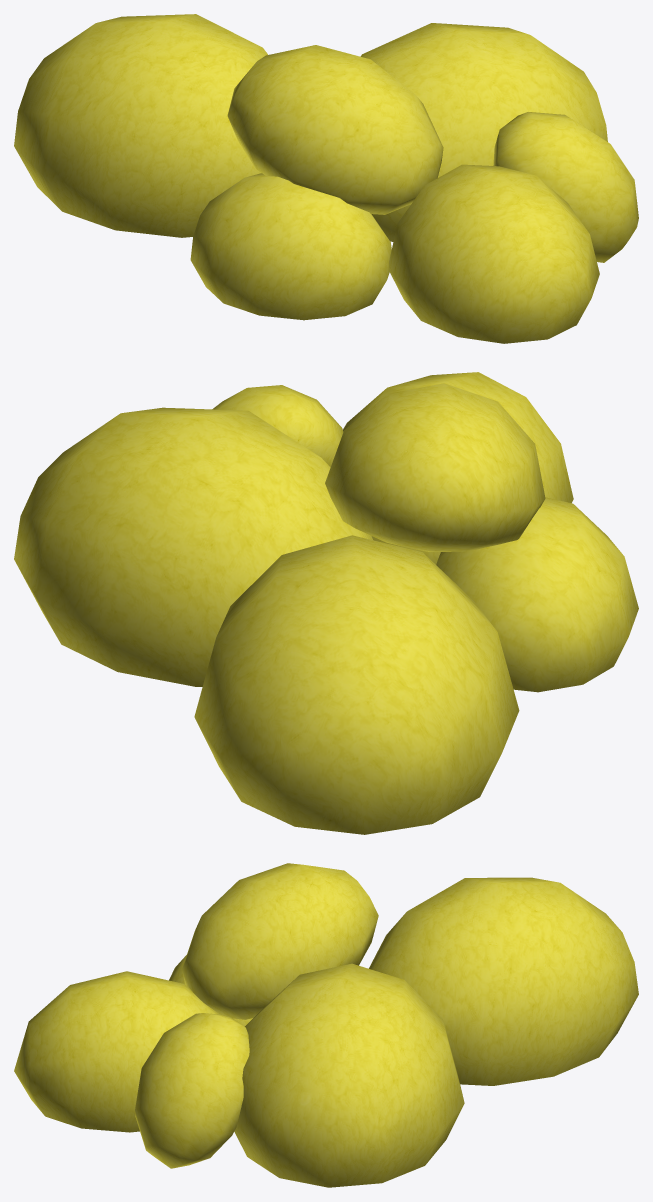
Rendered from fbx_candy_flower_04.FBX.
The picture shows the model from 3 angles, top to bottom: view 1: azimuth 30°, elevation 25°; view 2: azimuth 150°, elevation 25°; view 3: azimuth 270°, elevation 25°; orthographic projection. The views are drawn at different scales.
Visible parts, largest first — view 1: candy_flower_04; view 2: candy_flower_04; view 3: candy_flower_04.
Part boxes in pixels (x1,y1,x2,y2): candy_flower_04: (14, 14, 638, 343); candy_flower_04: (14, 372, 638, 834); candy_flower_04: (14, 863, 638, 1187).
Size of the model in its own units: 13.23 by 5.62 by 16.5.
